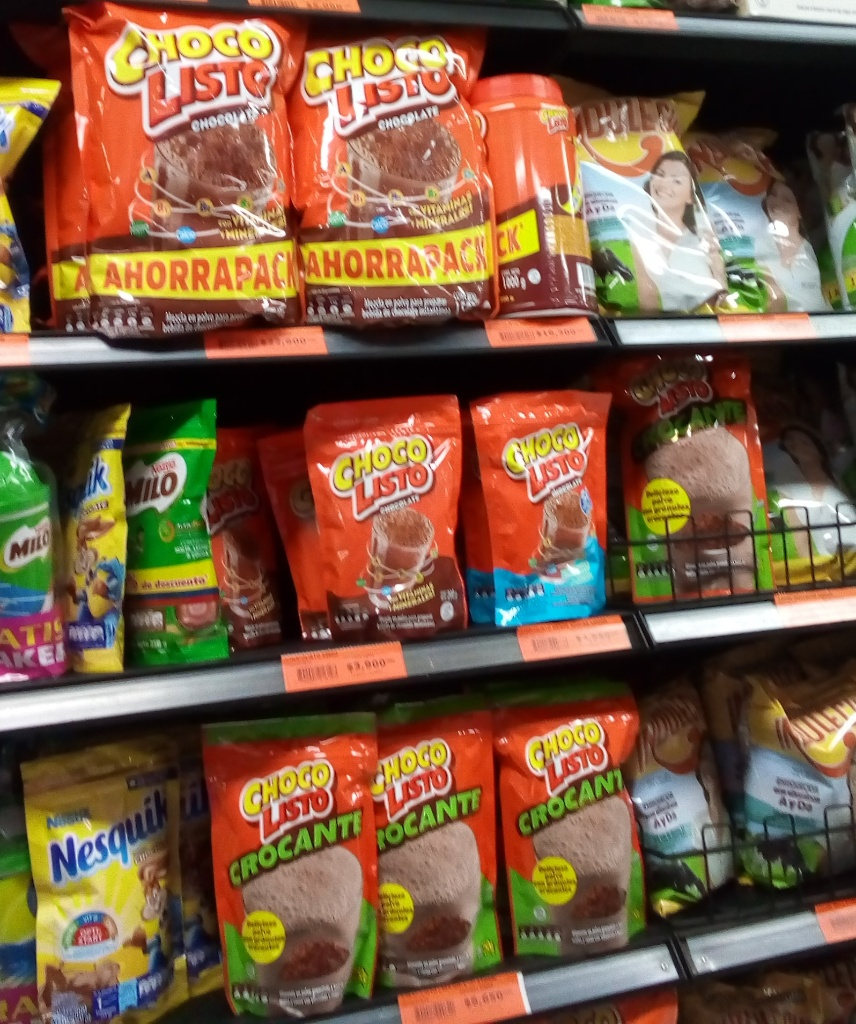COL0170103TRR00100: (473, 68, 598, 319)
COL0170104DYP20000: (463, 386, 619, 630)
